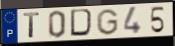0: (47, 9, 67, 39)
4: (122, 5, 143, 36)
5: (150, 6, 166, 34)
D: (69, 8, 96, 38)
G: (95, 8, 120, 37)
T: (22, 12, 42, 40)
